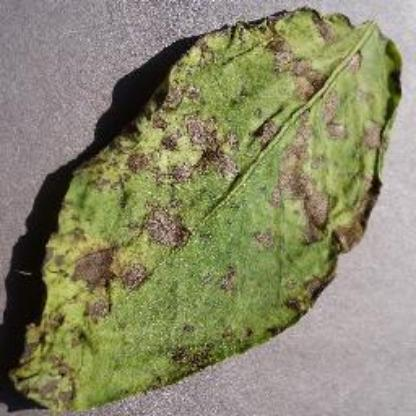Early-Blight: (6, 5, 416, 414)
